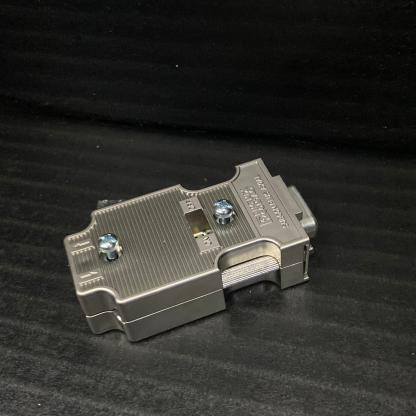SP0000010: (26, 137, 343, 371)
